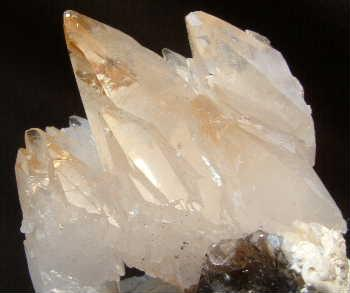calcite: (15, 11, 344, 292)
